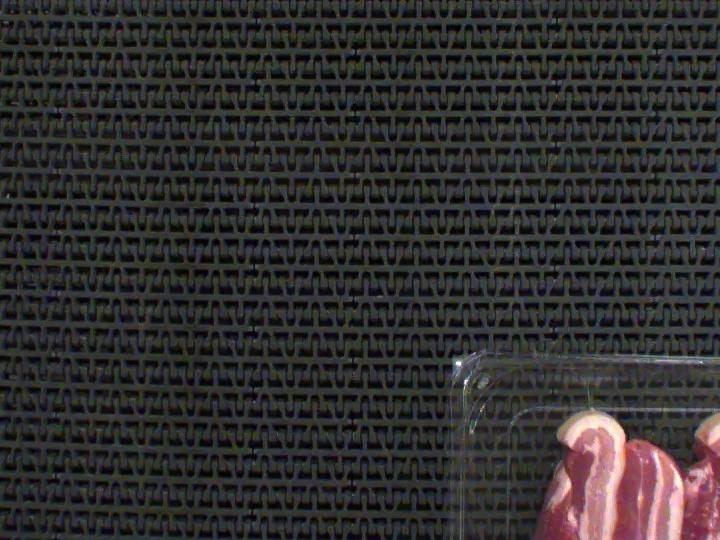packaging-error: (579, 373, 602, 412)
